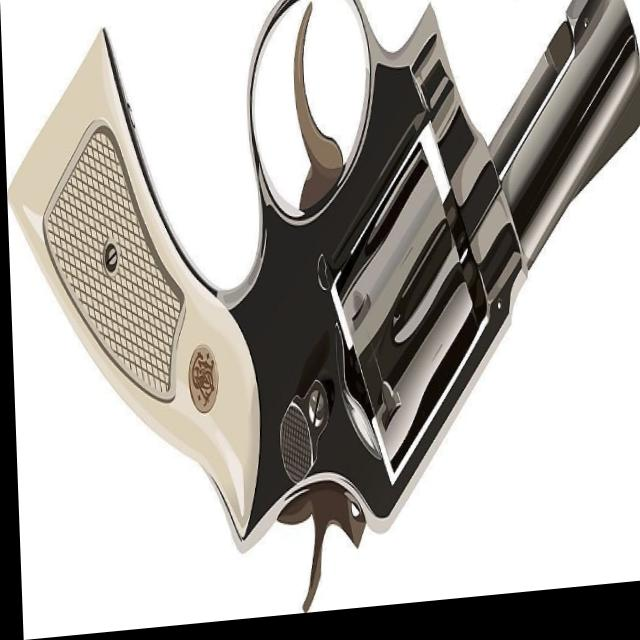handgun: (1, 0, 640, 640)
